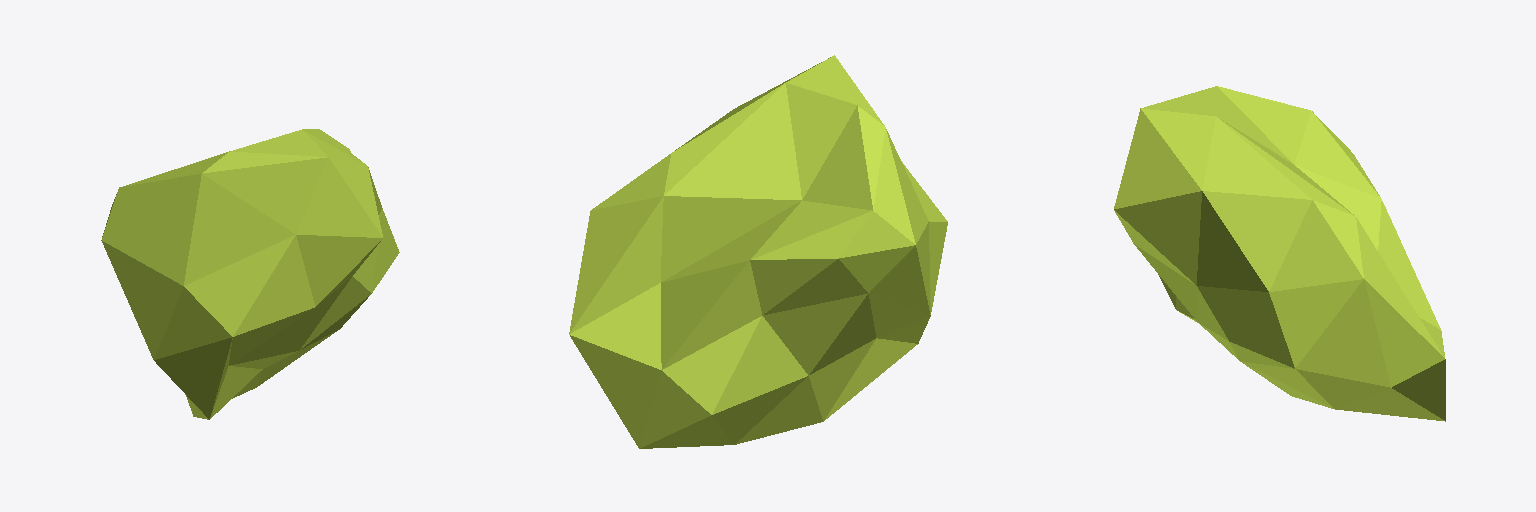
Rendered from Rock4.obj.
3 renders of one model, left to right at view 1: azimuth 30°, elevation 25°; view 2: azimuth 150°, elevation 25°; view 3: azimuth 270°, elevation 25°, orthographic.
Visible parts, largest first — view 1: GeoSphere001; view 2: GeoSphere001; view 3: GeoSphere001.
Boxes of the visible parts, <box> form: GeoSphere001: <box>101,129,399,419</box>; GeoSphere001: <box>569,55,947,448</box>; GeoSphere001: <box>1114,86,1445,421</box>.
Bounding box in the file's own units: 2.27 × 2.14 × 2.16.